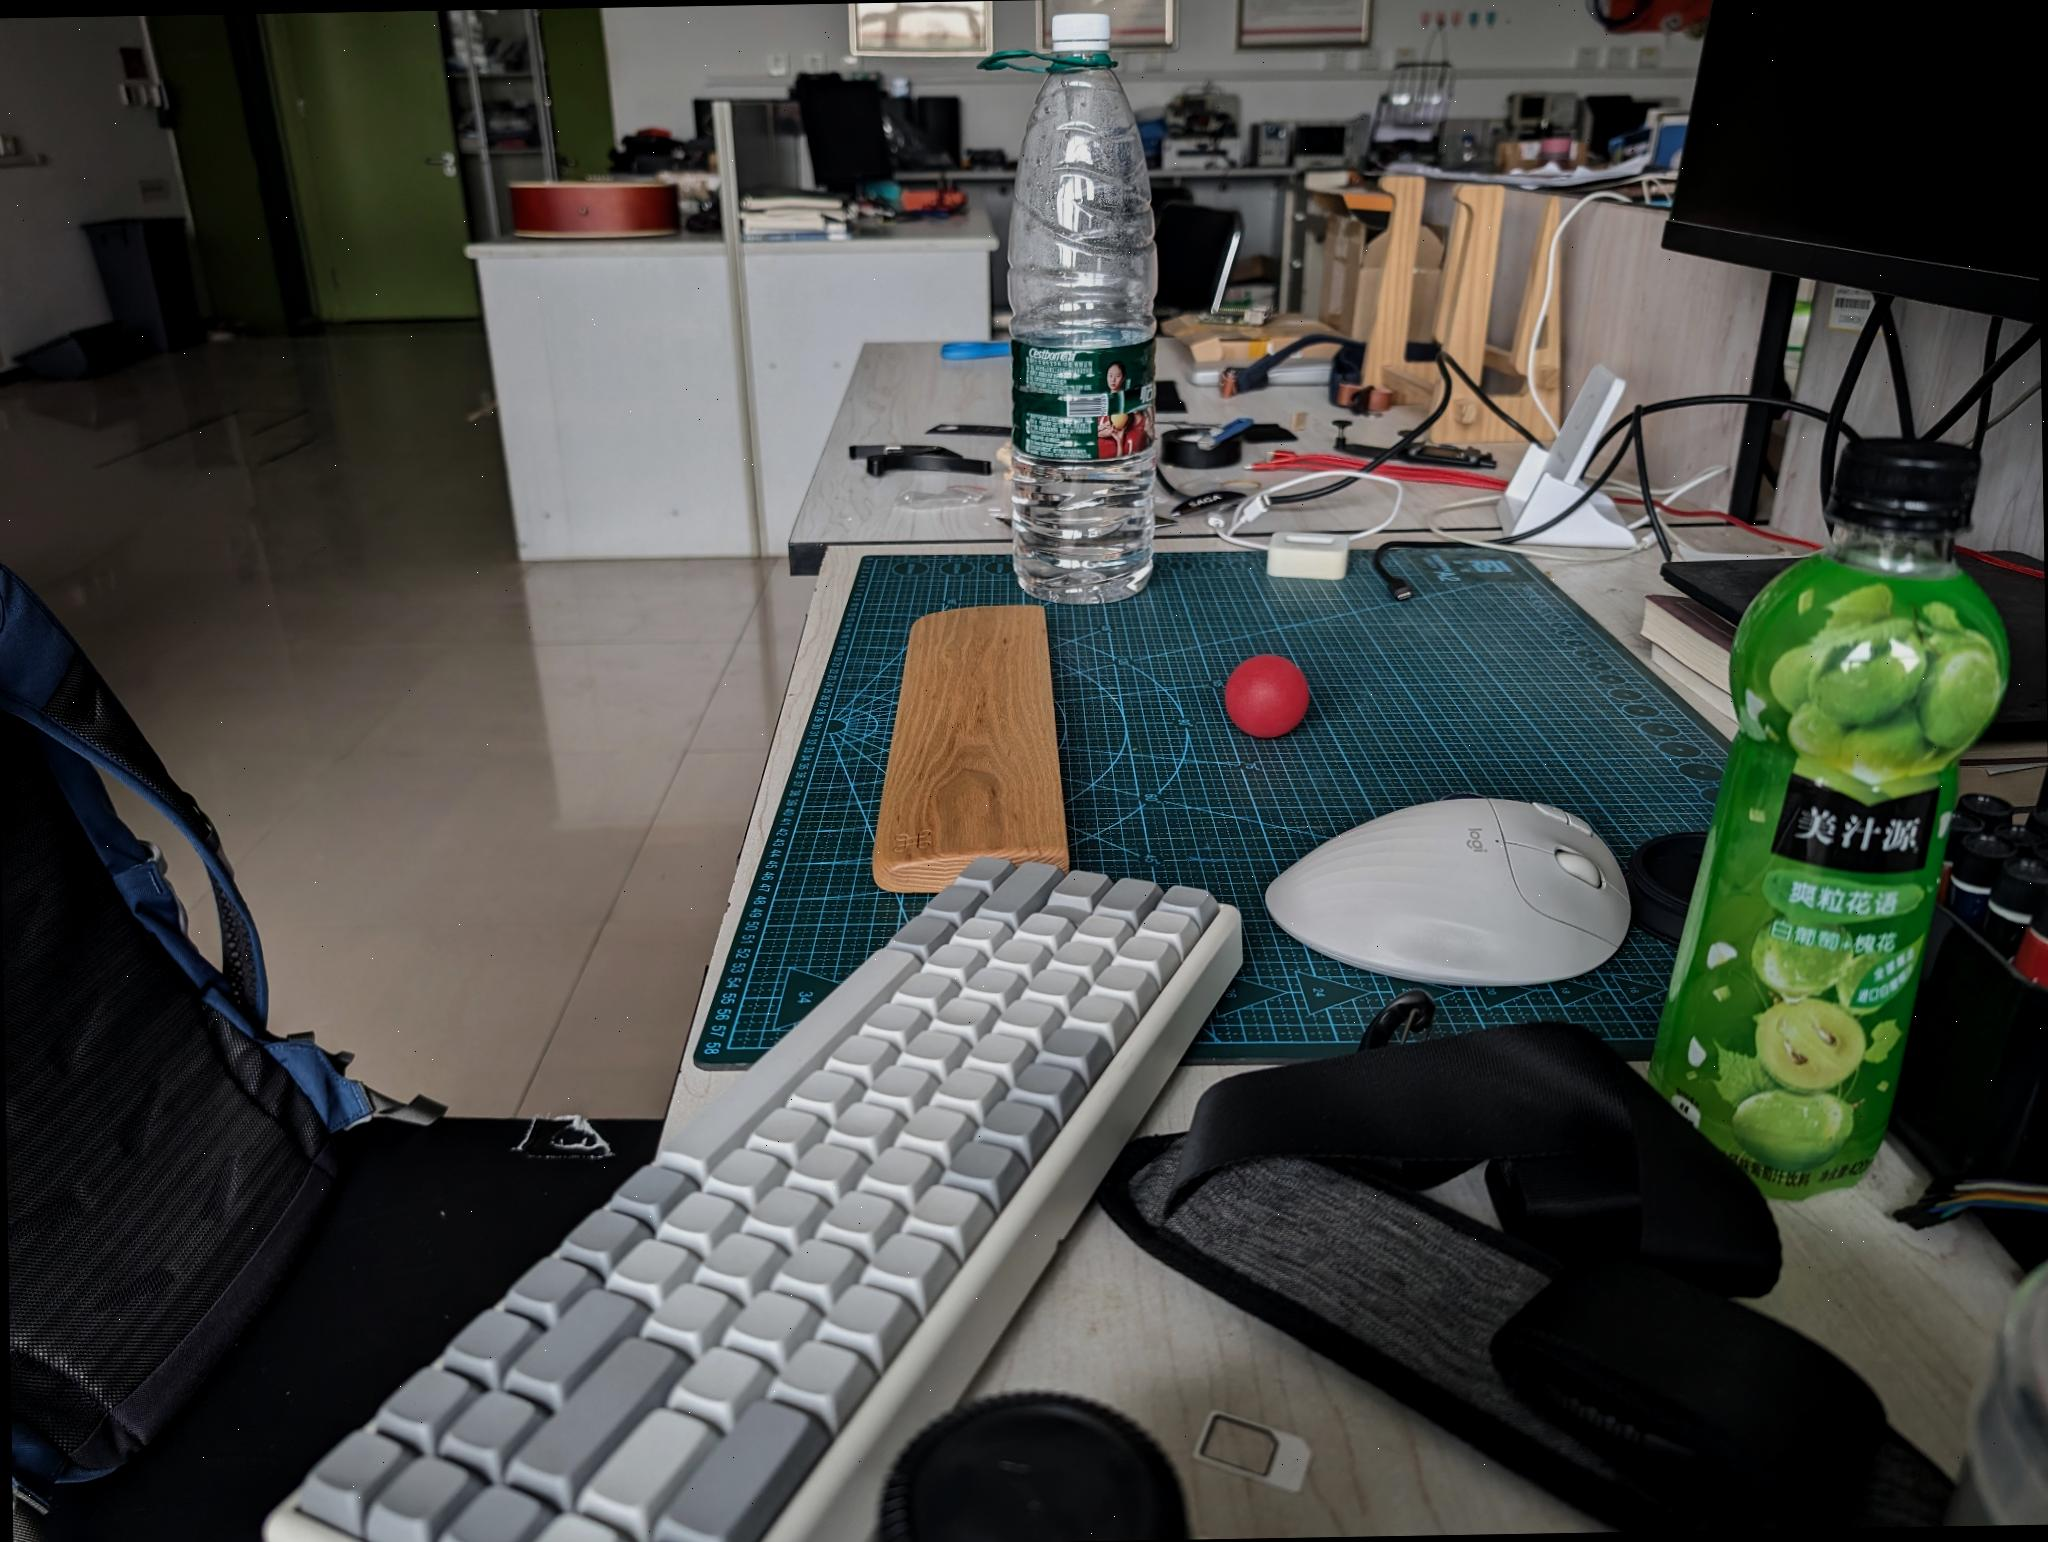ball: (1229, 650, 1307, 743)
